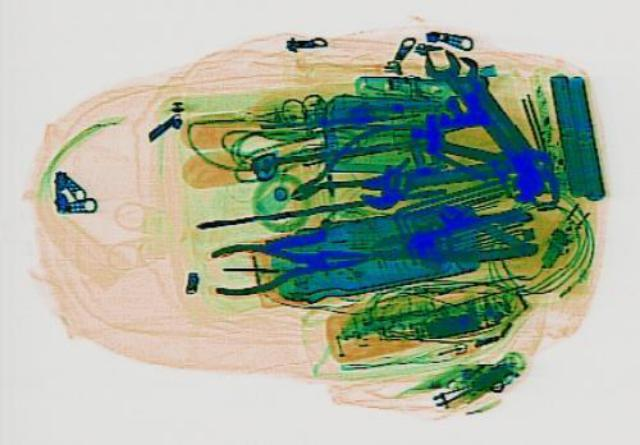Pliers: (265, 120, 427, 216), (361, 204, 543, 273), (202, 230, 368, 294)
Wrench: (410, 42, 548, 185), (432, 52, 542, 169), (350, 150, 524, 209)
